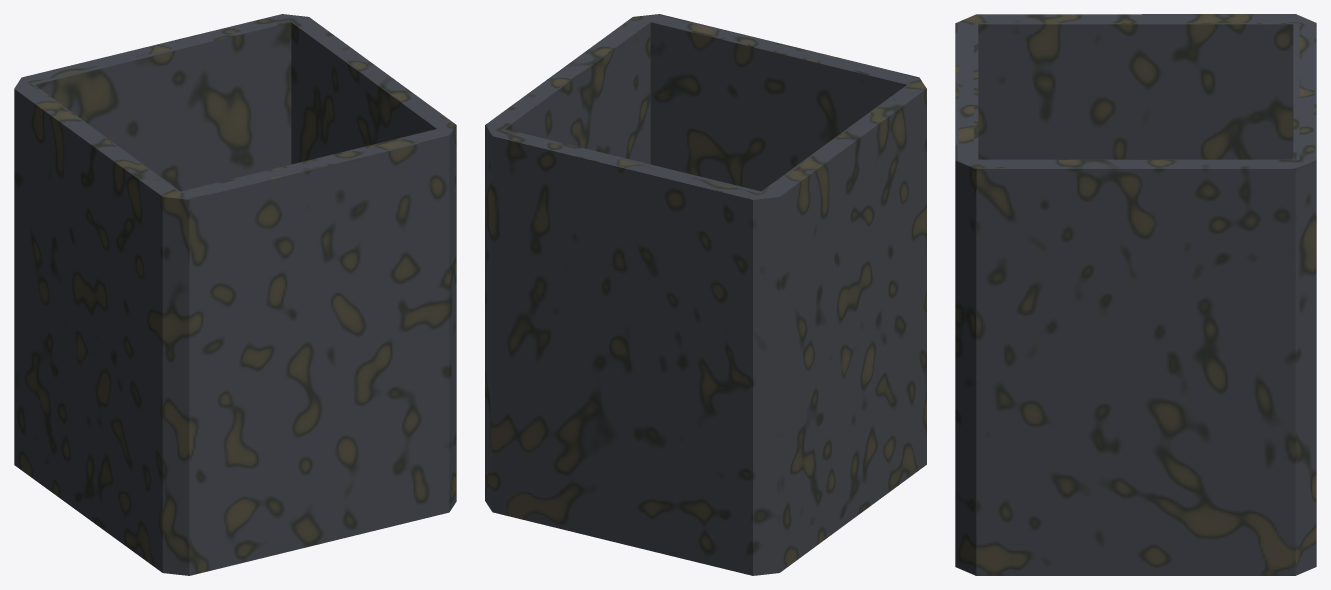
Rendered from PencilCup.fbx.
3 views of the same model, side by side, from view 1: azimuth 30°, elevation 25°; view 2: azimuth 150°, elevation 25°; view 3: azimuth 270°, elevation 25° (orthographic). The views are drawn at different scales.
Visible parts, largest first — view 1: Export pencil cup; view 2: Export pencil cup; view 3: Export pencil cup.
Part boxes in pixels (box(x1,y1,x2,y2)): Export pencil cup: box(14, 14, 456, 575); Export pencil cup: box(485, 14, 926, 575); Export pencil cup: box(955, 14, 1316, 575).
Size of the model in its own units: 7.22 by 8.8 by 7.09.
